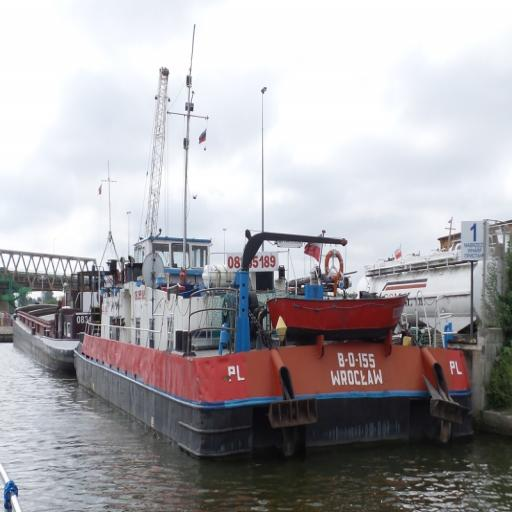tugboat: (72, 74, 478, 474)
